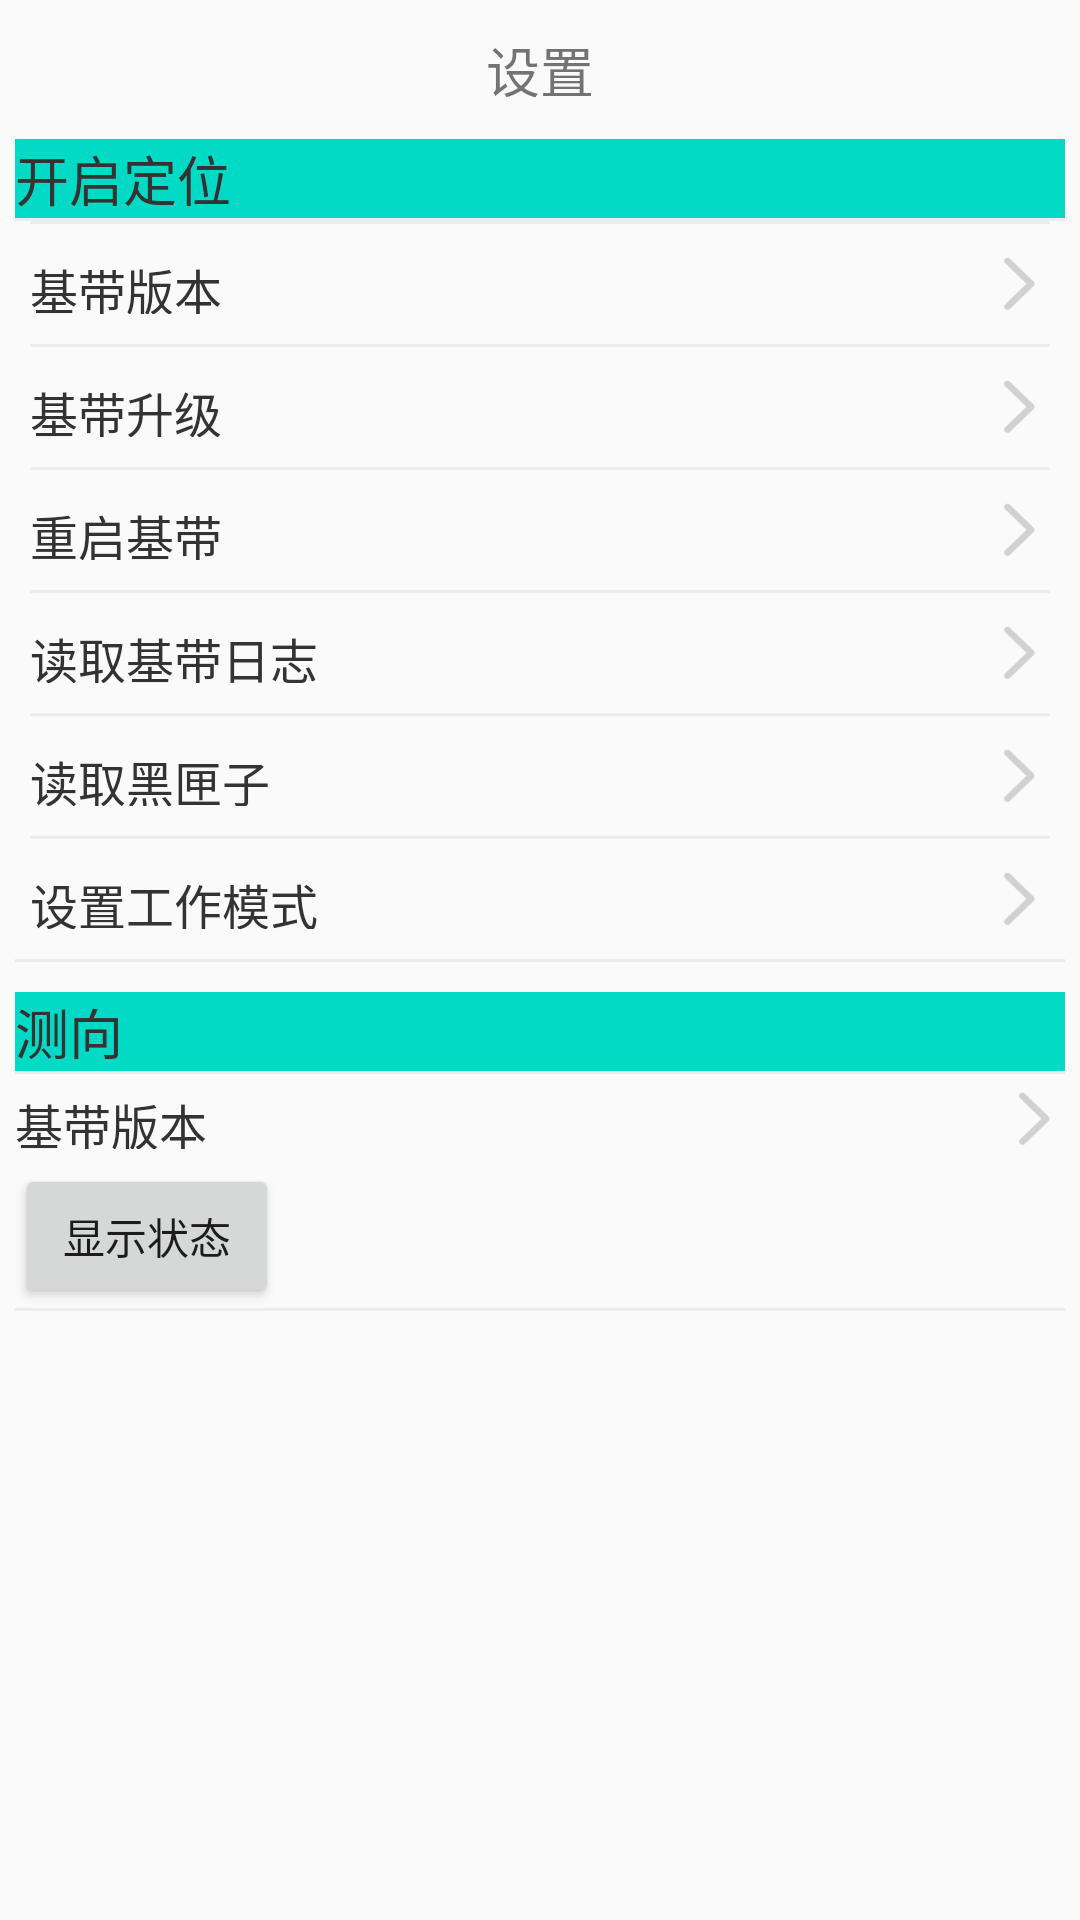

Point at icon controls on the screen. Image size 1080 x 1920, points as [x,y].
more: [1019,284], [1019,407], [1019,530], [1019,653], [1019,776], [1019,899], [1034,1119]
